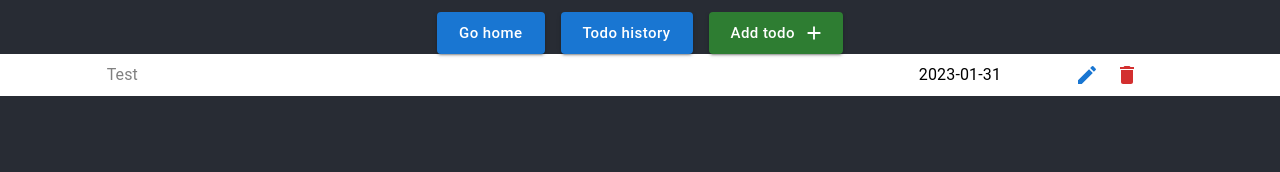
Test case: When history mode is active, checkbox must be disabled
Click the button "Todo history" at [626, 33], box [560,12,692,54]
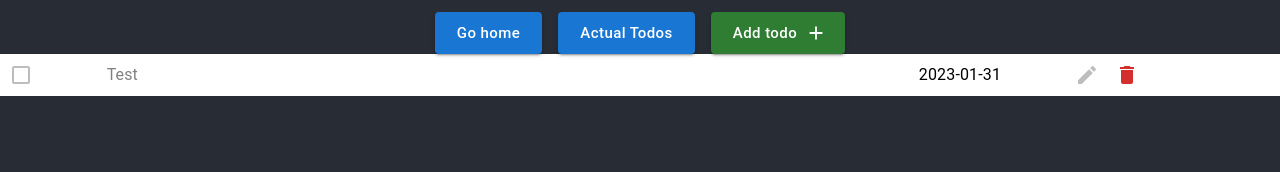
Check: the checkbox is disabled, box [9,63,33,87]
